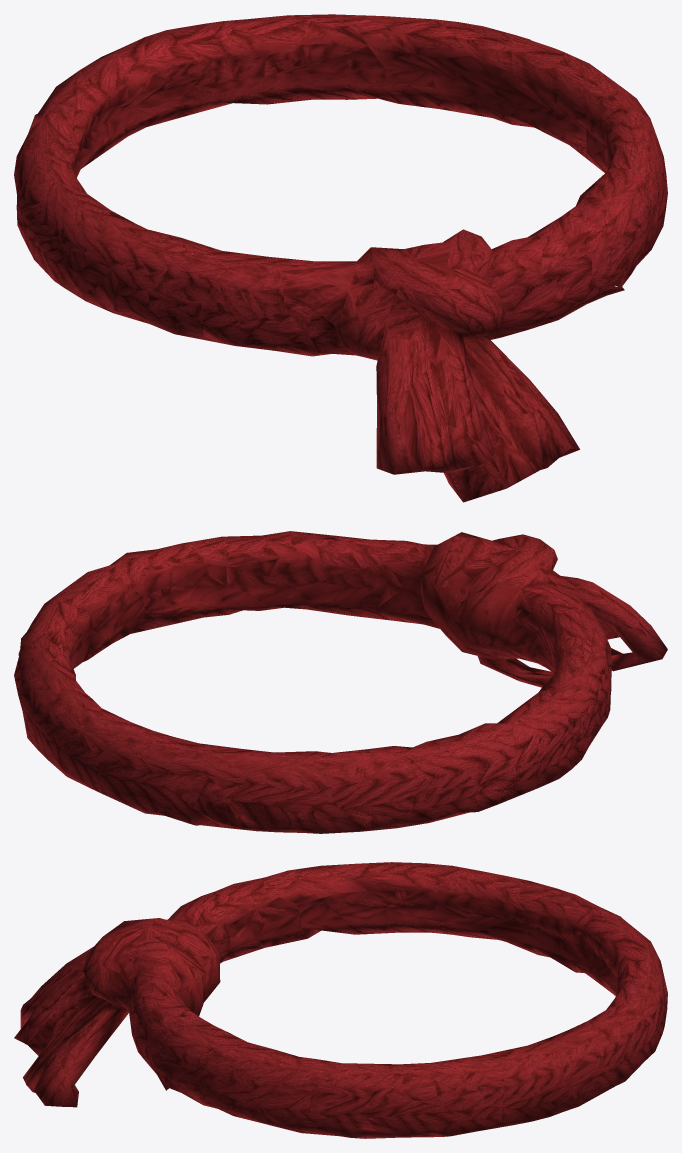
File: scarf.fbx
3 renders of one model, top to bottom at view 1: azimuth 30°, elevation 25°; view 2: azimuth 150°, elevation 25°; view 3: azimuth 270°, elevation 25°, orthographic. The views are drawn at different scales.
Parts seen in each view (by area): view 1: scarf; view 2: scarf; view 3: scarf.
Boxes of the visible parts, bbox=[...] form: scarf: bbox=[14, 14, 667, 502]; scarf: bbox=[14, 531, 667, 833]; scarf: bbox=[14, 862, 667, 1138].
Size of the model in its own units: 57.78 by 20.14 by 70.48.
Materials: 1 (1 with a texture image).
